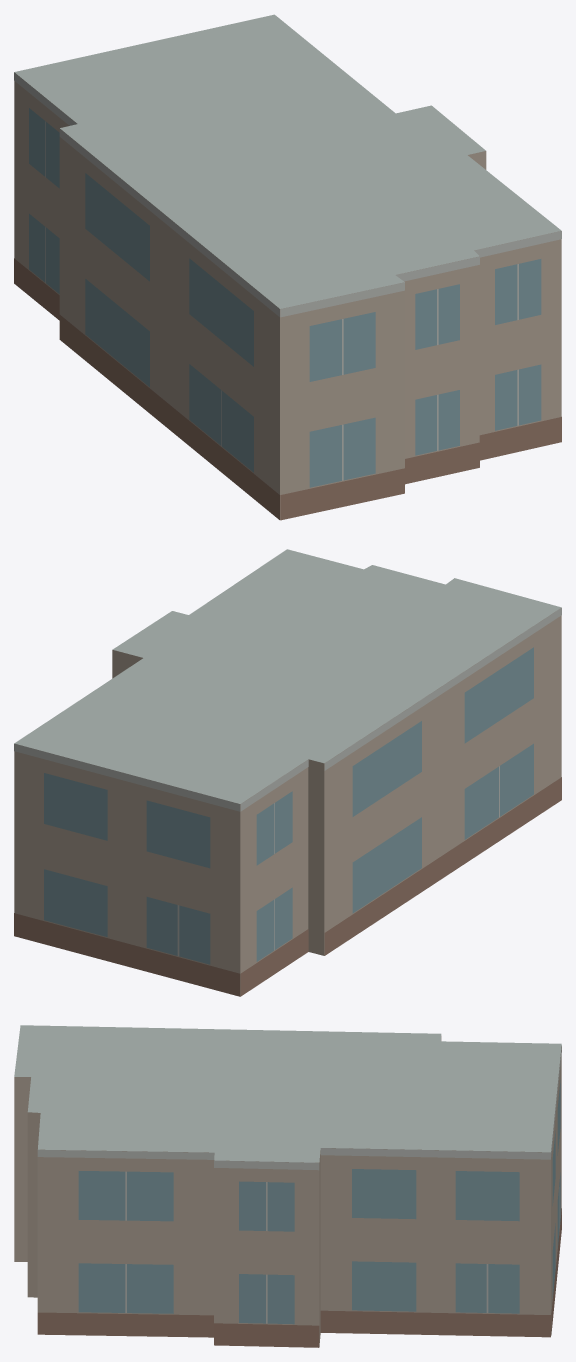
File: survey-upis-32721081.glb
The picture shows the model from 3 angles, top to bottom: view 1: azimuth 30°, elevation 25°; view 2: azimuth 150°, elevation 25°; view 3: azimuth 270°, elevation 25°; orthographic projection. The views are drawn at different scales.
Visible parts, largest first — view 1: survey-upis-32721081.tmp; view 2: survey-upis-32721081.tmp; view 3: survey-upis-32721081.tmp.
Boxes of the visible parts, <box> form: survey-upis-32721081.tmp: <box>14,14,561,520</box>; survey-upis-32721081.tmp: <box>14,549,561,996</box>; survey-upis-32721081.tmp: <box>14,1025,561,1347</box>.
Bounding box in the file's own units: 9.75 × 6.1 × 16.38.
